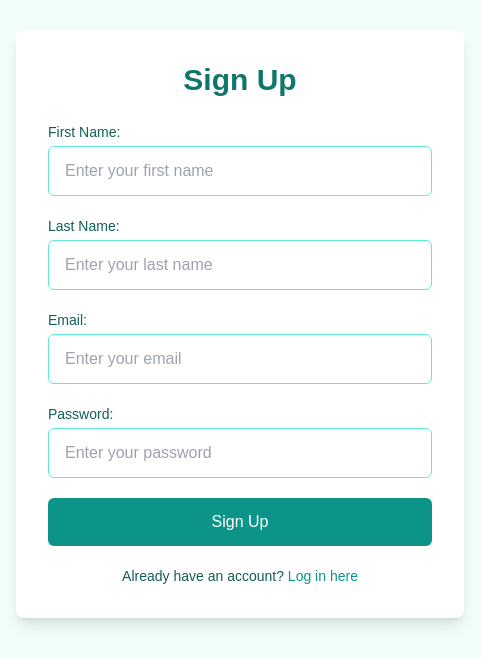
Test case: SignUp Component › submits the form with valid data
Type "John" into the field labelled "First Name:" at (240, 171), box [48,146,432,196]
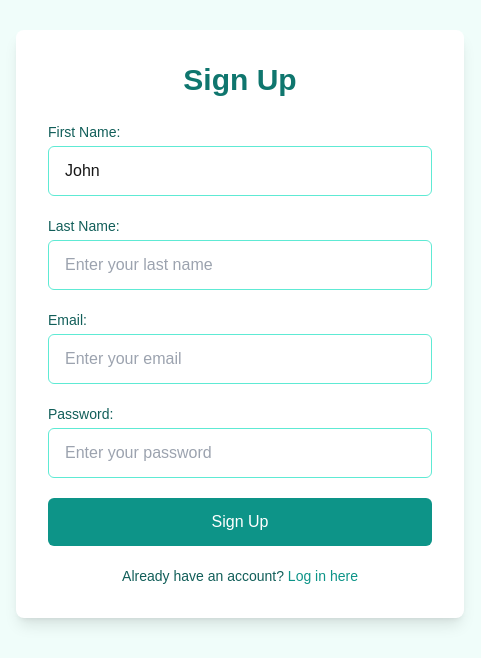
Type "Doe" into the field labelled "Last Name:" at (240, 265), box [48,240,432,290]
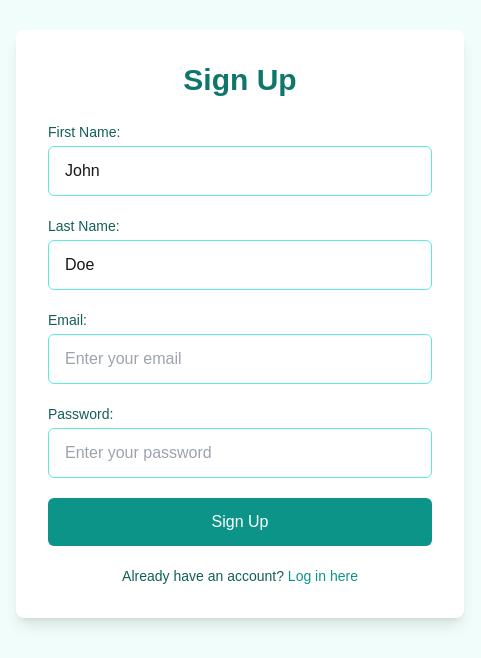
Type "john.doe@example.com" into the field labelled "Email:" at (240, 359), box [48,334,432,384]
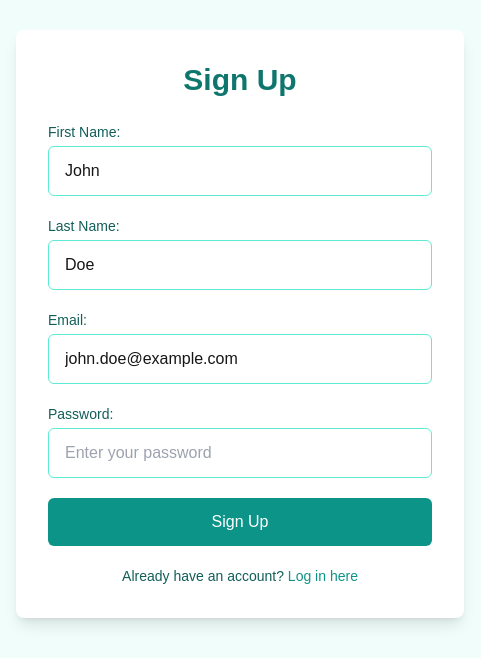
Type "StrongPassword1!" into the password field labelled "Password:" at (240, 453), box [48,428,432,478]
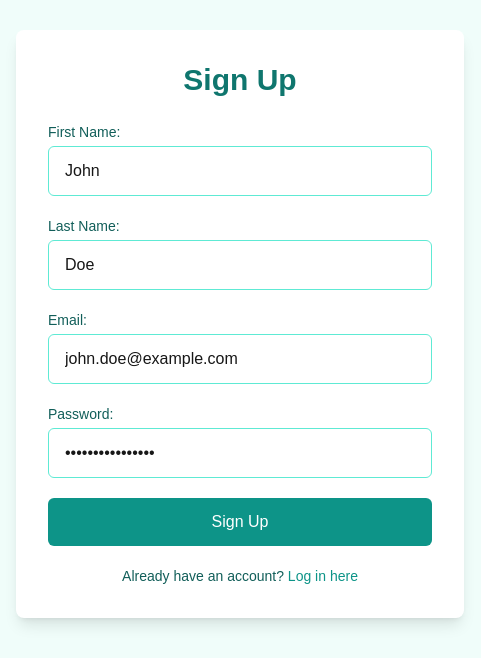
Click the button "Sign Up" at (240, 522), box [48,498,432,546]
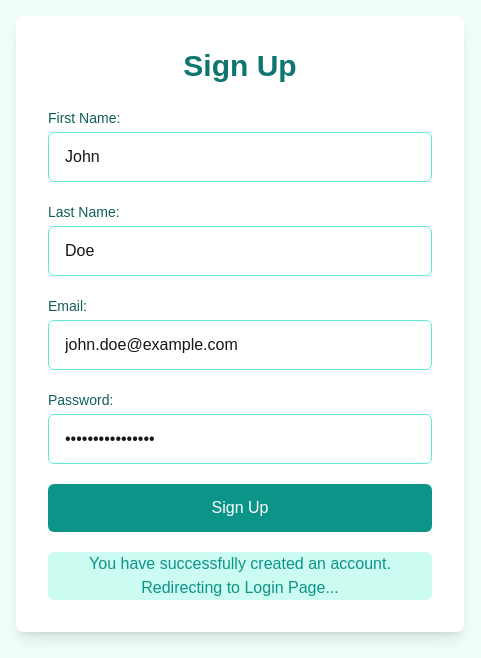
Now the text "You have successfully created an account. Redirecting to Login Page..." is shown, box [48,552,432,600]
